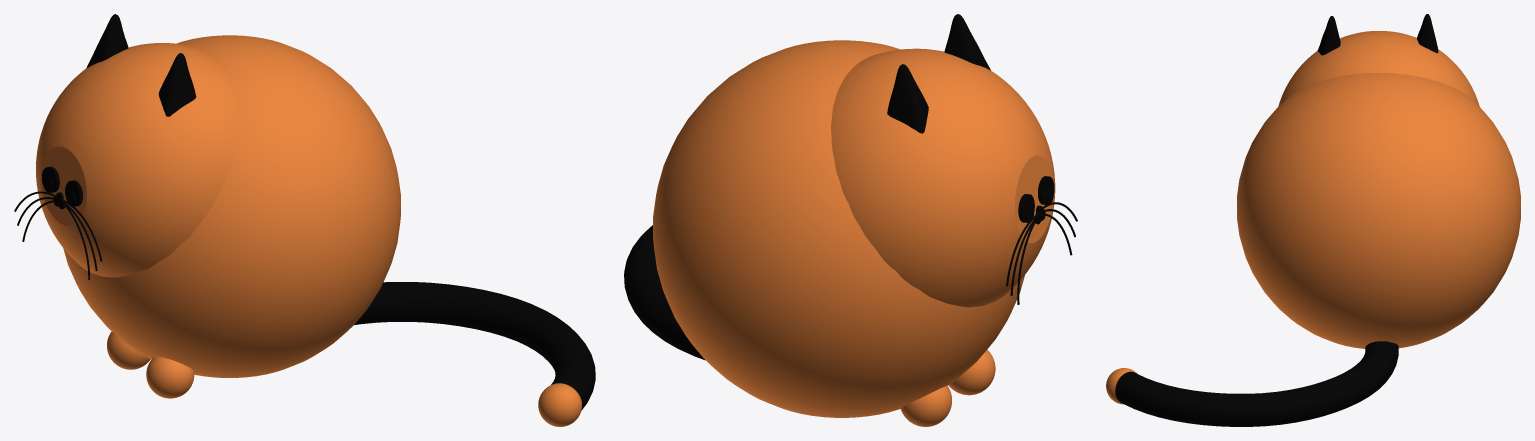
The model's file is fat_cat.fbx.
The picture shows the model from 3 angles, left to right: view 1: azimuth 30°, elevation 25°; view 2: azimuth 150°, elevation 25°; view 3: azimuth 270°, elevation 25°; orthographic projection. The views are drawn at different scales.
Visible parts, largest first — view 1: fat_cat_obj; view 2: fat_cat_obj; view 3: fat_cat_obj.
Part boxes in pixels (<box>): fat_cat_obj: <box>14,14,595,426</box>; fat_cat_obj: <box>624,14,1077,426</box>; fat_cat_obj: <box>1106,14,1520,426</box>.
Bounding box in the file's own units: 2658 × 2015 × 2616.
